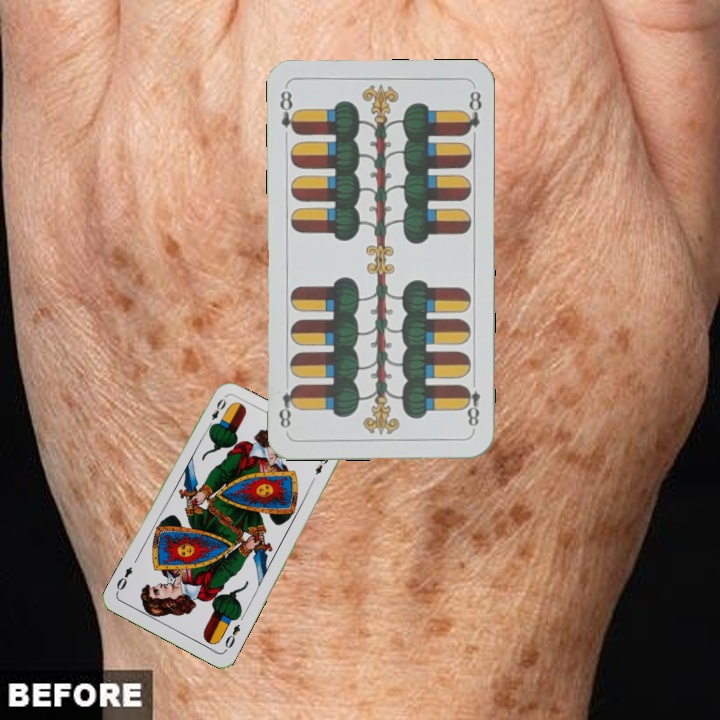E8: (275, 87, 300, 138), (460, 381, 483, 433)
EO: (203, 394, 229, 432), (221, 620, 243, 654)
